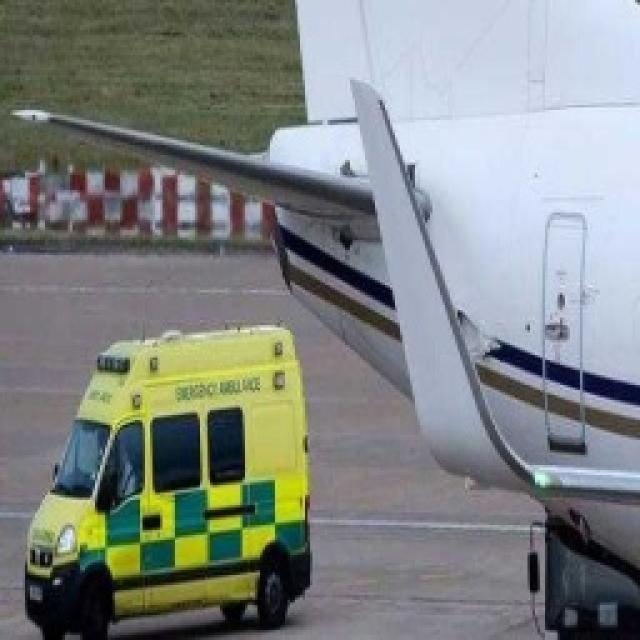ambulance: (25, 328, 310, 638)
